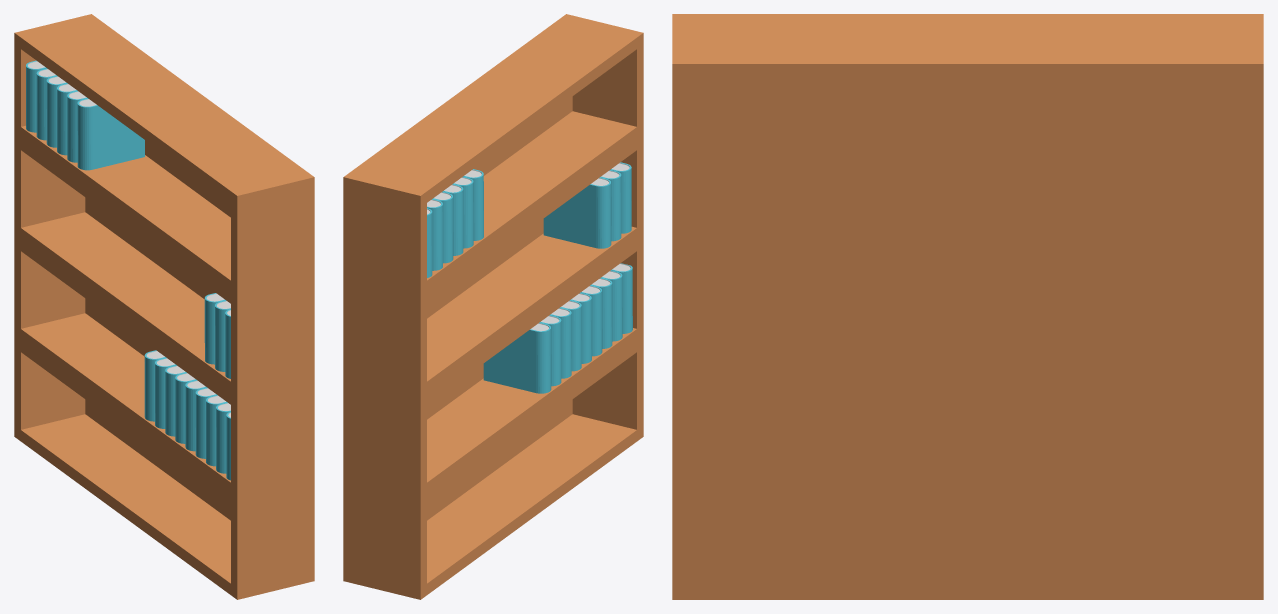
File: libreroAzulC.glb
3 renders of one model, left to right at view 1: azimuth 30°, elevation 25°; view 2: azimuth 150°, elevation 25°; view 3: azimuth 270°, elevation 25°, orthographic. The views are drawn at different scales.
Visible parts, largest first — view 1: Librero; view 2: Librero; view 3: Librero.
Boxes of the visible parts, x1,y1,x2,y2 form: Librero: (14, 14, 314, 599); Librero: (343, 14, 643, 599); Librero: (672, 14, 1263, 599).
Size of the model in its own units: 0.67 by 3.35 by 3.35.
